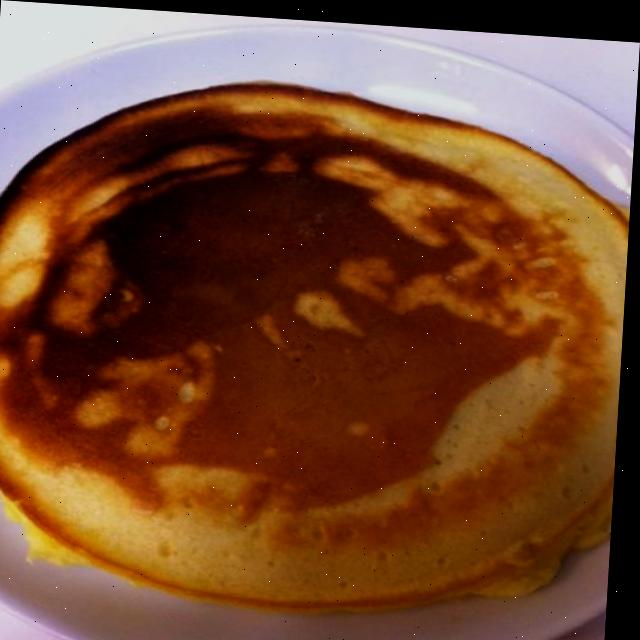蛋糕甜品: (0, 20, 639, 640)
